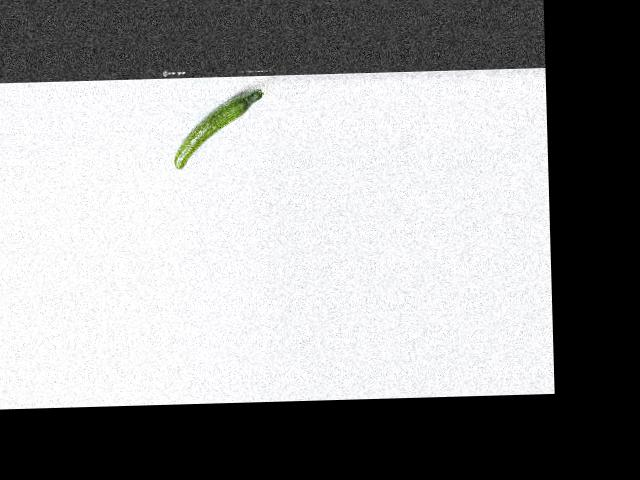cucumber: (173, 89, 266, 168)
